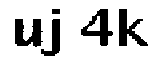4: (77, 5, 114, 48)
j: (41, 4, 65, 60)
k: (116, 4, 150, 50)
u: (9, 13, 43, 48)
